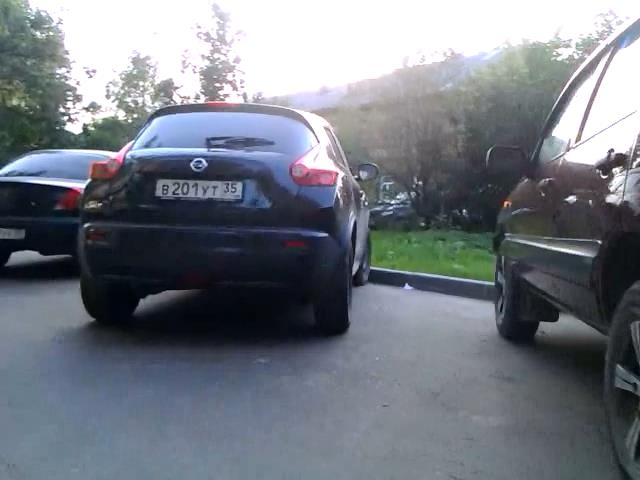car license plate: (153, 177, 245, 206), (1, 225, 25, 242)
